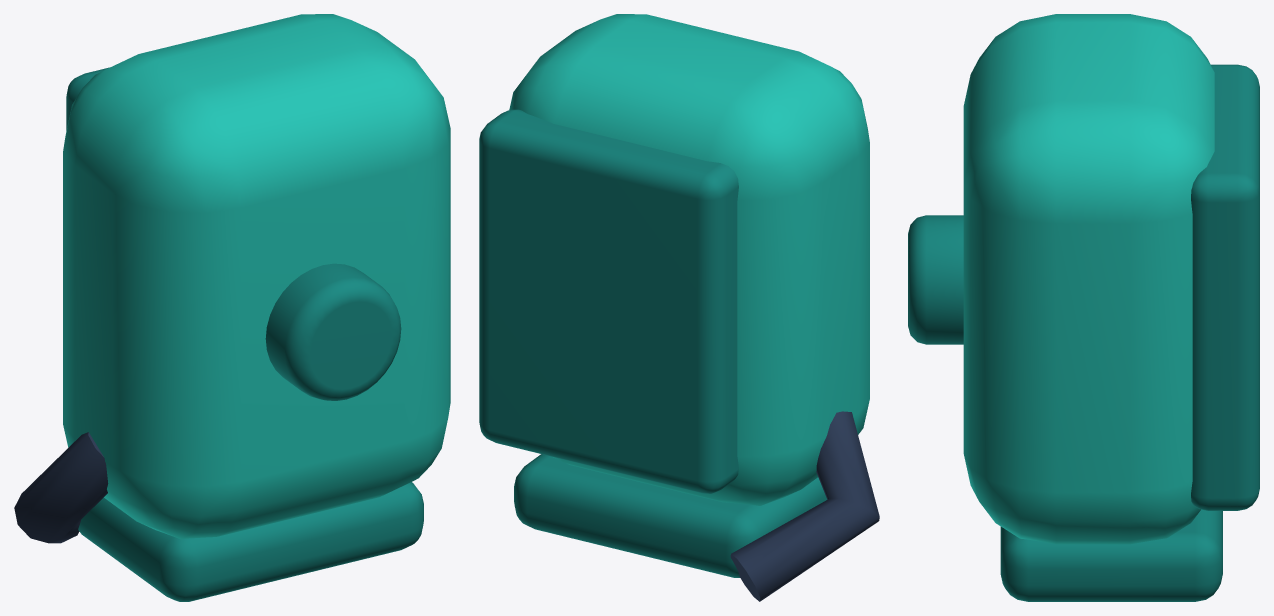
Rendered from PumpHand.fbx.
3 views of the same model, side by side, from view 1: azimuth 30°, elevation 25°; view 2: azimuth 150°, elevation 25°; view 3: azimuth 270°, elevation 25° (orthographic). The views are drawn at different scales.
Parts seen in each view (by area): view 1: PumpHand mesh; view 2: PumpHand mesh; view 3: PumpHand mesh.
Part boxes in pixels (x1,y1,x2,y2): PumpHand mesh: [14, 14, 450, 601]; PumpHand mesh: [479, 14, 879, 601]; PumpHand mesh: [908, 14, 1259, 601].
Size of the model in its own units: 0.2359 by 0.2944 by 0.19.
